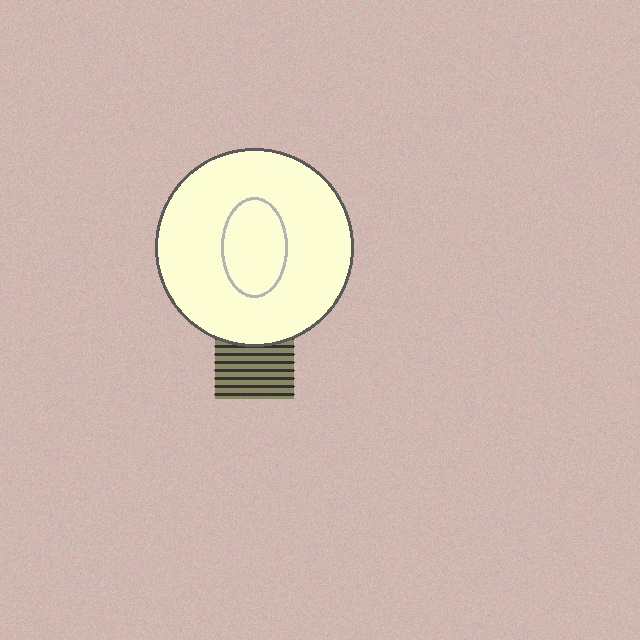bulb: (151, 144, 357, 403)
